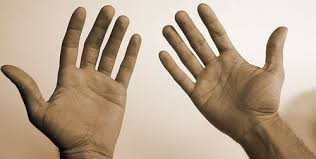palm: (45, 59, 129, 153), (206, 57, 268, 136)
